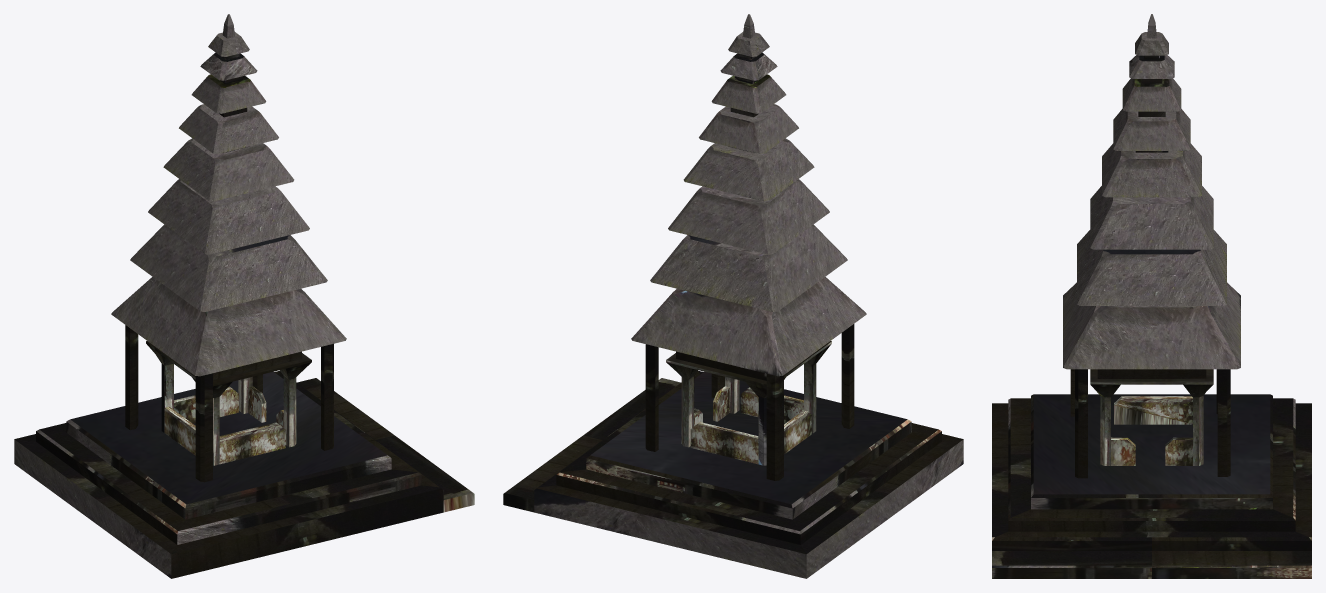
File: temple.fbx
3 views of the same model, side by side, from view 1: azimuth 30°, elevation 25°; view 2: azimuth 150°, elevation 25°; view 3: azimuth 270°, elevation 25° (orthographic).
Visible parts, largest first — view 1: foundation, roof, altar, support; view 2: foundation, roof, altar, support; view 3: foundation, roof, altar, support.
Part boxes in pixels (left/top/right/bottom): foundation: left=14, top=371, right=474, bottom=578; roof: left=111, top=14, right=346, bottom=376; altar: left=146, top=341, right=311, bottom=465; support: left=125, top=325, right=333, bottom=482; foundation: left=503, top=371, right=963, bottom=578; roof: left=631, top=14, right=866, bottom=376; altar: left=666, top=341, right=831, bottom=465; support: left=645, top=324, right=854, bottom=480; foundation: left=992, top=394, right=1311, bottom=578; roof: left=1063, top=14, right=1240, bottom=369; altar: left=1090, top=369, right=1213, bottom=465; support: left=1070, top=369, right=1230, bottom=478.
Size of the model in its own units: 1640 by 2447 by 1472.
Materials: 1 (1 with a texture image).
